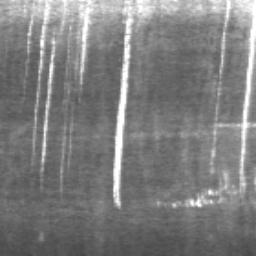Bright scratch: (112, 13, 133, 210), (160, 176, 246, 208), (31, 12, 49, 155), (241, 18, 255, 179), (211, 16, 226, 161), (41, 35, 54, 167), (78, 13, 88, 83), (26, 12, 33, 53)
